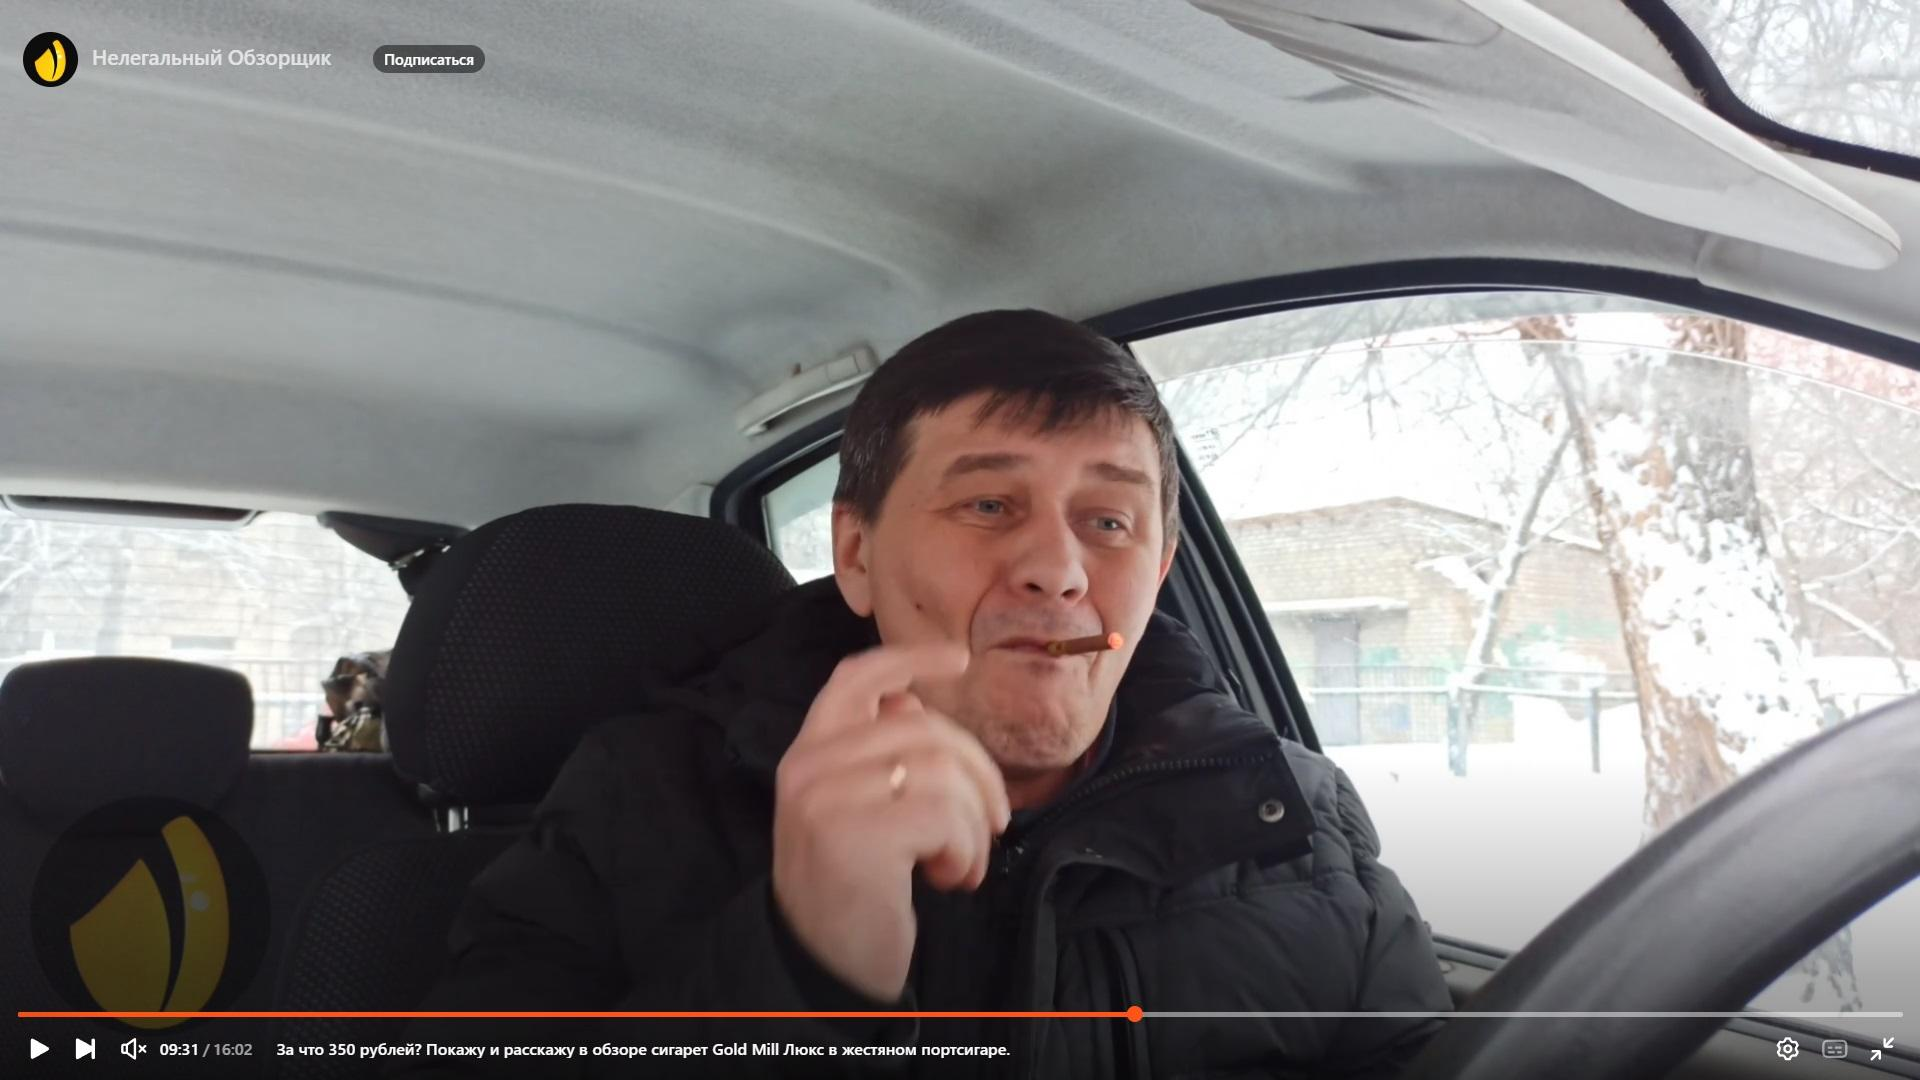cigarette: (1044, 632, 1125, 657)
